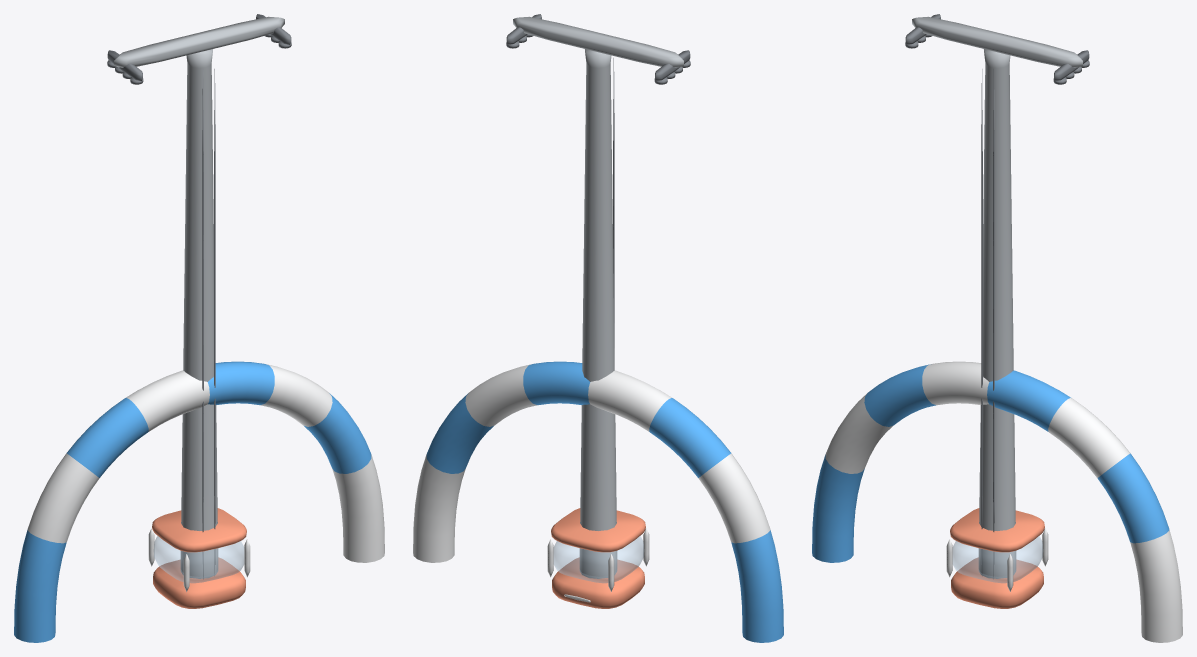
File: lift.glb
The picture shows the model from 3 angles, left to right: view 1: azimuth 30°, elevation 25°; view 2: azimuth 150°, elevation 25°; view 3: azimuth 330°, elevation 25°; orthographic projection.
Parts seen in each view (by area): view 1: arch, tower, cabin; view 2: arch, tower, cabin; view 3: arch, tower, cabin.
Part boxes in pixels (left/top/right/bottom): arch: left=14, top=361, right=384, bottom=642; tower: left=107, top=14, right=291, bottom=578; cabin: left=148, top=508, right=250, bottom=608; arch: left=413, top=361, right=783, bottom=642; tower: left=506, top=14, right=690, bottom=578; cabin: left=547, top=508, right=649, bottom=608; arch: left=812, top=361, right=1182, bottom=642; tower: left=905, top=14, right=1089, bottom=578; cabin: left=946, top=508, right=1048, bottom=608.
Size of the model in its own units: 11.1 by 16.25 by 2.21.
